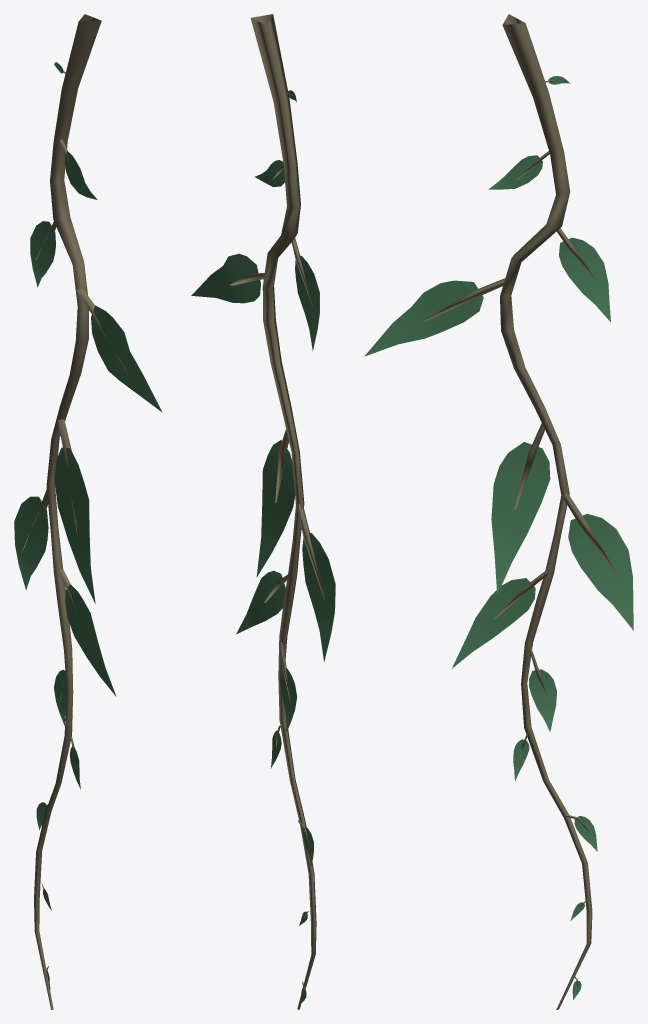
File: vine 1.fbx
3 renders of one model, left to right at view 1: azimuth 30°, elevation 25°; view 2: azimuth 210°, elevation 25°; view 3: azimuth 270°, elevation 25°, orthographic. The views are drawn at different scales.
Parts seen in each view (by area): view 1: polySurface24; view 2: polySurface24; view 3: polySurface24.
Boxes of the visible parts, left/top/right/bottom form: polySurface24: left=14, top=14, right=162, bottom=1009; polySurface24: left=191, top=14, right=335, bottom=1009; polySurface24: left=364, top=14, right=633, bottom=1009.
Size of the model in its own units: 7.7 by 284 by 69.69.
